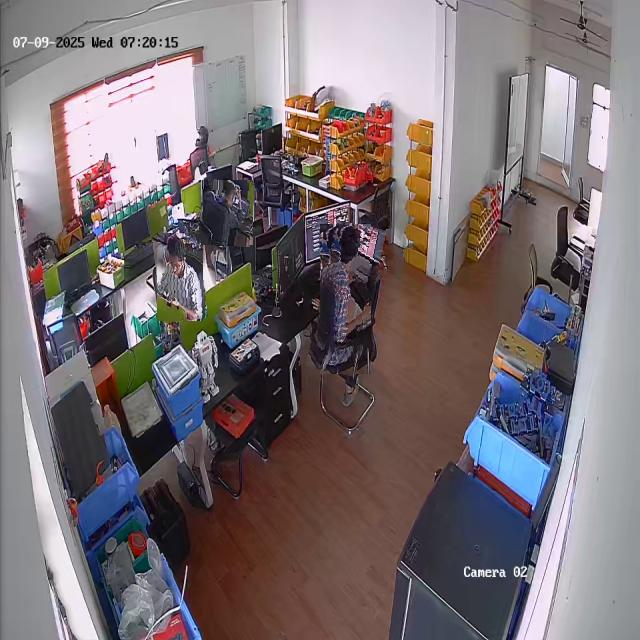person: (312, 222, 378, 376), (154, 232, 206, 322), (200, 179, 254, 246)
